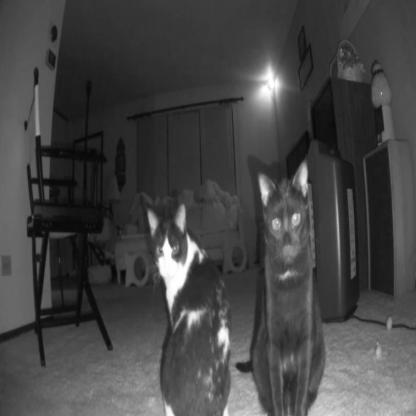cat: (143, 200, 234, 415), (252, 162, 328, 415)
